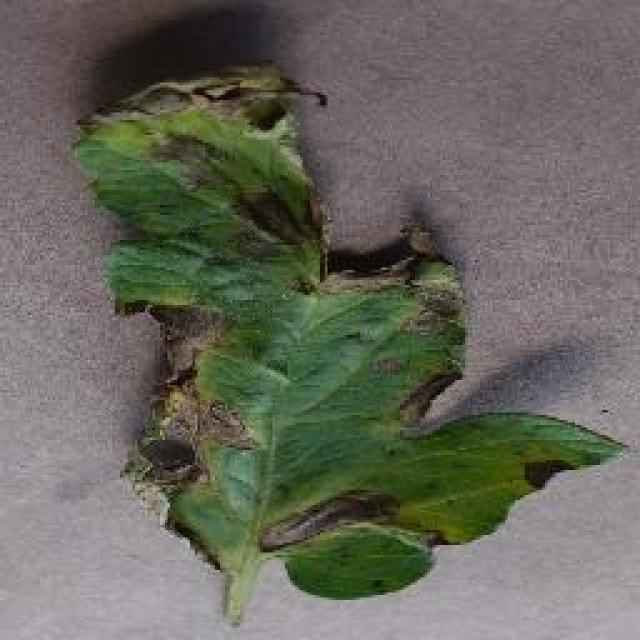Tomato_Early_Blight: (62, 44, 623, 587)
